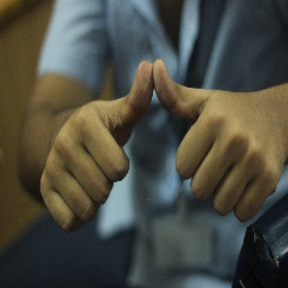A: (81, 54, 227, 186)
